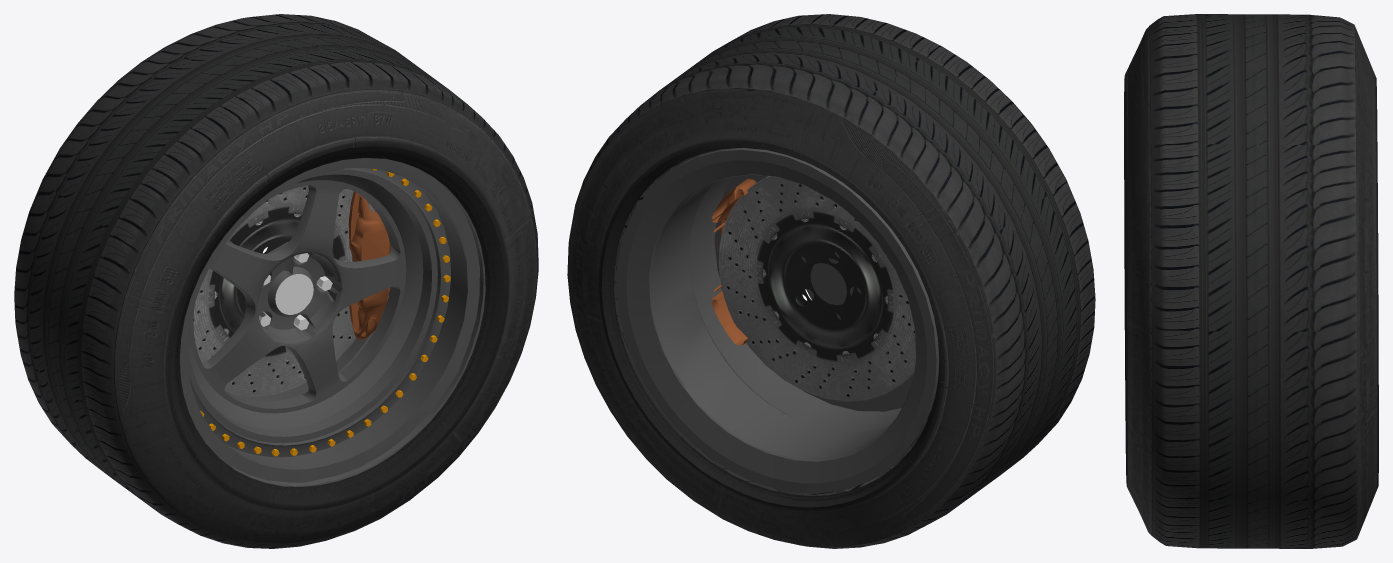
Rendered from Tyre_Type_1.fbx.
3 views of the same model, side by side, from view 1: azimuth 30°, elevation 25°; view 2: azimuth 150°, elevation 25°; view 3: azimuth 270°, elevation 25° (orthographic). The views are drawn at different scales.
Parts seen in each view (by area): view 1: Rubber, Rim1, Rim, Disc, Caliper, Outer Screws; view 2: Rubber, Rim, Disc, Rim1, Caliper; view 3: Rubber.
Boxes of the visible parts, x1,y1,x2,y2 form: Rubber: [14, 14, 538, 548]; Rim1: [187, 168, 450, 457]; Rim: [180, 158, 485, 486]; Disc: [193, 186, 374, 397]; Caliper: [349, 191, 390, 339]; Outer Screws: [200, 169, 450, 456]; Rubber: [567, 14, 1095, 548]; Rim: [617, 148, 939, 493]; Disc: [719, 176, 915, 401]; Rim1: [714, 175, 913, 411]; Caliper: [711, 178, 756, 345]; Rubber: [1124, 14, 1378, 548].
Bounding box in the file's own units: 55.47 × 55.36 × 26.42.
